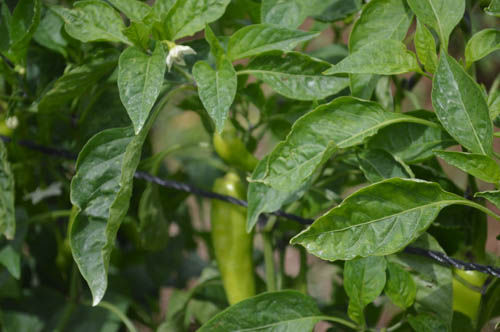ChiliPepper: (206, 178, 259, 313), (210, 128, 265, 175)
